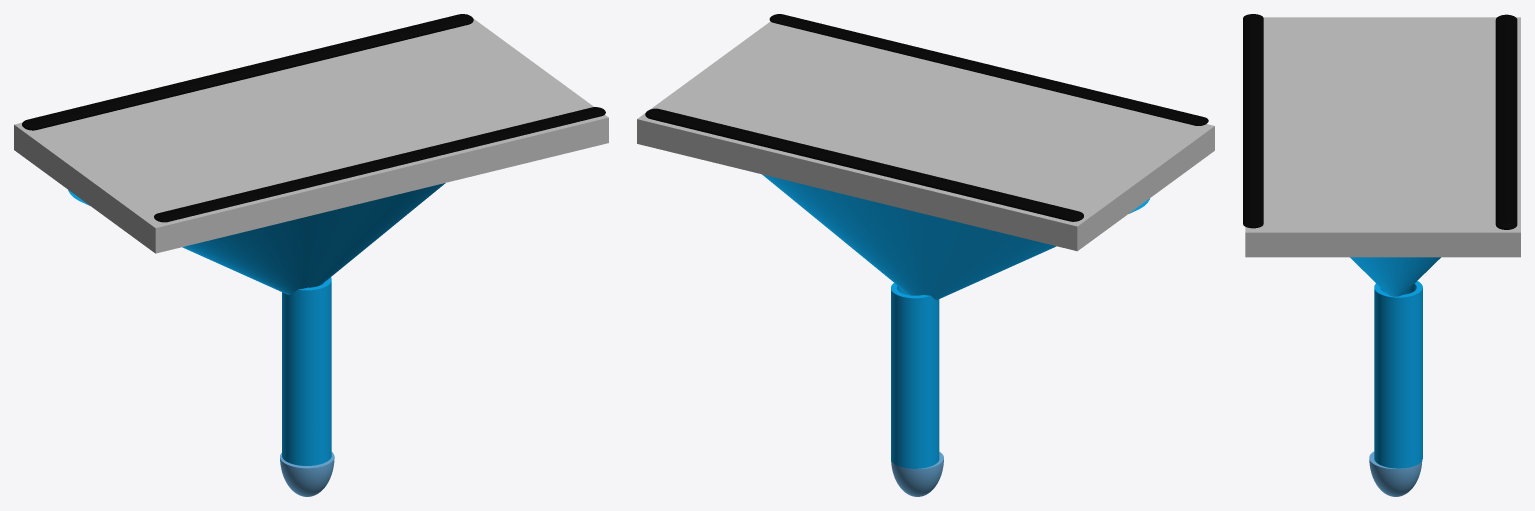
Rendered from window cleaner.glb.
3 views of the same model, side by side, from view 1: azimuth 30°, elevation 25°; view 2: azimuth 150°, elevation 25°; view 3: azimuth 270°, elevation 25° (orthographic). The views are drawn at different scales.
Parts seen in each view (by area): view 1: mesh_id38, mesh_id27, mesh_id54, mesh_id43, mesh_id45, mesh_id63; view 2: mesh_id38, mesh_id27, mesh_id54, mesh_id43, mesh_id45, mesh_id63; view 3: mesh_id38, mesh_id54, mesh_id43, mesh_id45, mesh_id27, mesh_id63.
Boxes of the visible parts, <box> form: mesh_id38: <box>14,14,608,253</box>; mesh_id27: <box>68,183,445,294</box>; mesh_id54: <box>282,277,331,465</box>; mesh_id43: <box>22,14,473,130</box>; mesh_id45: <box>154,107,605,222</box>; mesh_id63: <box>280,452,334,496</box>; mesh_id38: <box>637,21,1214,251</box>; mesh_id27: <box>762,174,1149,300</box>; mesh_id54: <box>891,283,939,468</box>; mesh_id43: <box>645,108,1083,221</box>; mesh_id45: <box>769,14,1208,125</box>; mesh_id63: <box>891,452,943,496</box>; mesh_id38: <box>1245,17,1520,257</box>; mesh_id54: <box>1374,281,1422,468</box>; mesh_id43: <box>1495,14,1517,229</box>; mesh_id45: <box>1243,14,1263,228</box>; mesh_id27: <box>1350,257,1440,296</box>; mesh_id63: <box>1369,451,1422,496</box>.
Size of the model in its own units: 0.2253 by 0.182 by 0.1218.
6 materials, 5 textured.
